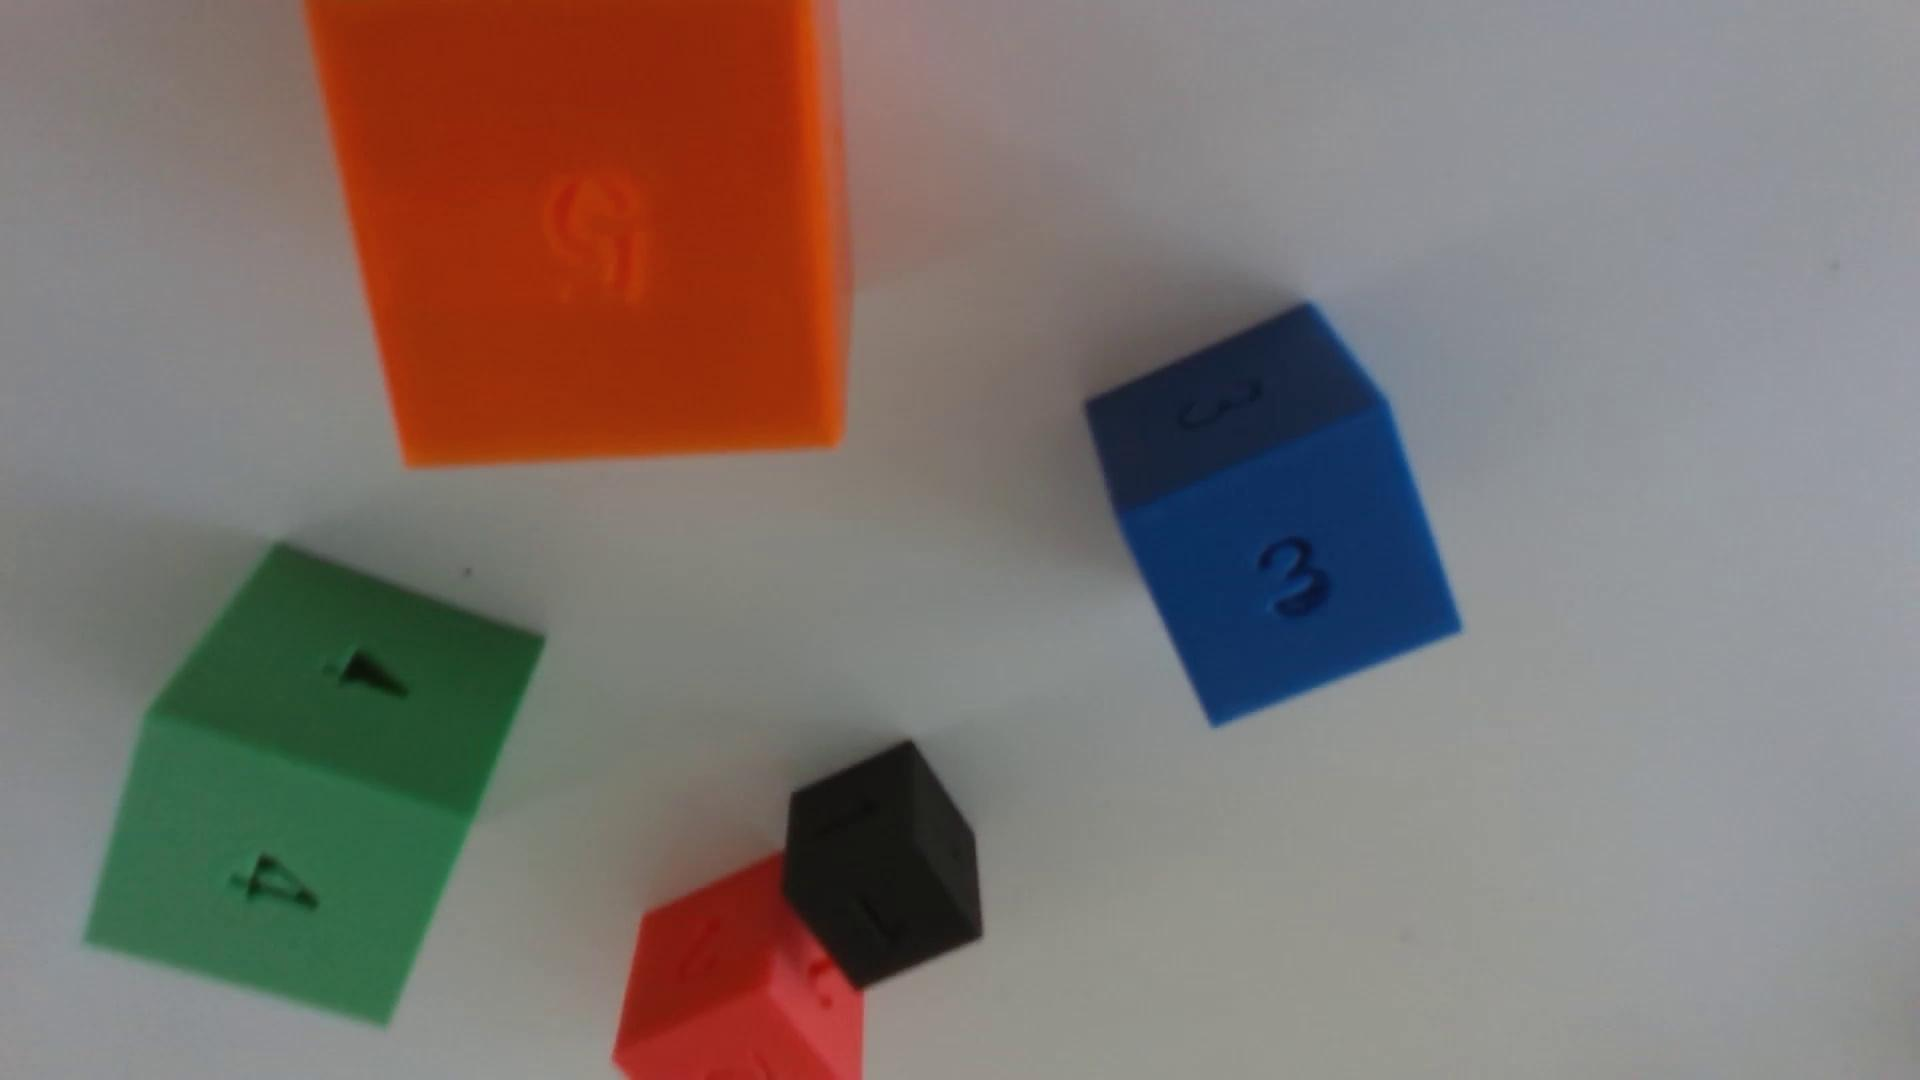black: (783, 740, 984, 989)
blue: (1087, 305, 1461, 724)
green: (87, 545, 545, 1025)
orange: (305, 0, 851, 467)
red: (613, 855, 865, 1080)
